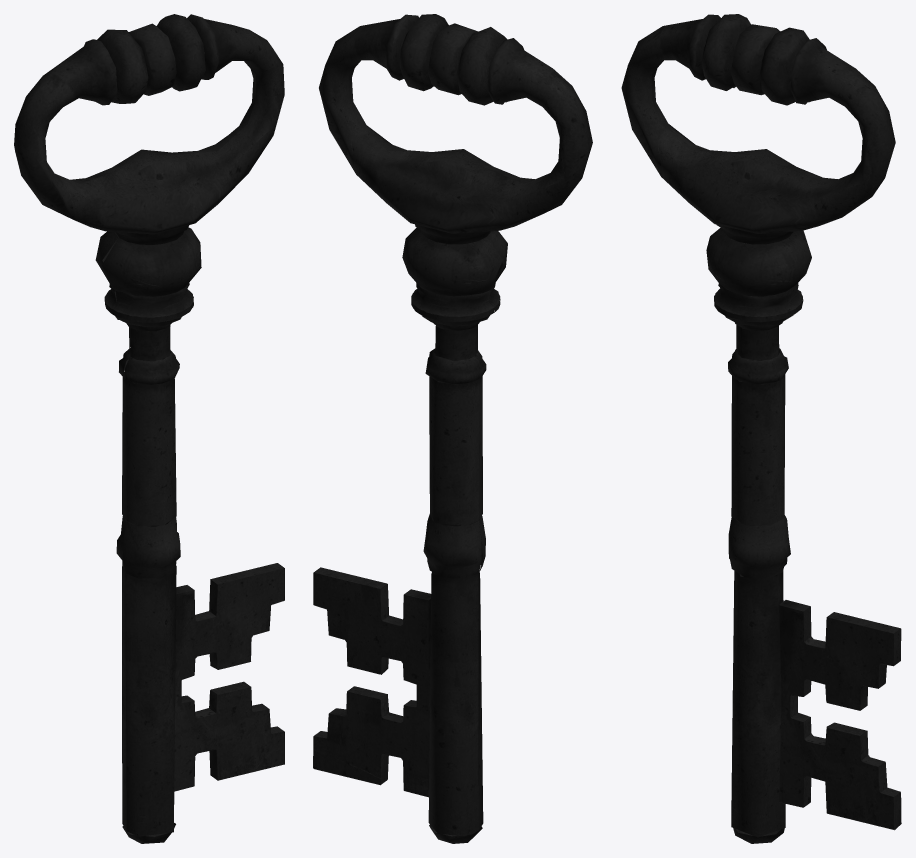
Rendered from key_old.glb.
3 renders of one model, left to right at view 1: azimuth 30°, elevation 25°; view 2: azimuth 150°, elevation 25°; view 3: azimuth 330°, elevation 25°, orthographic.
Parts seen in each view (by area): view 1: Object_2; view 2: Object_2; view 3: Object_2.
Boxes of the visible parts, box(x1,y1,x2,y2) form: Object_2: box(14, 14, 284, 843); Object_2: box(313, 14, 592, 843); Object_2: box(621, 14, 901, 843).
Bounding box in the file's own units: 88.97 × 257 × 30.66.
Materials: 1 (1 with a texture image).
